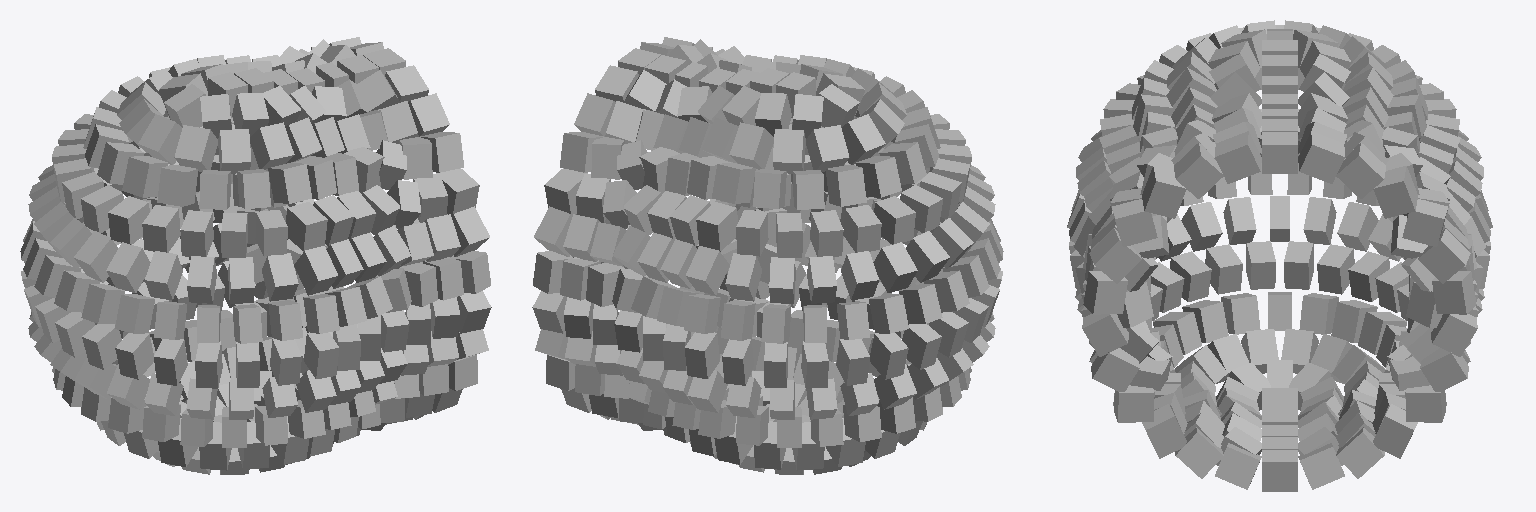
The robot description file, URDF, robot "root":
<?xml version='1.0' encoding='utf-8'?>
<robot name="root">
  <link name="link_001">
    <visual>
      <origin xyz="0 0 0" rpy="0 0 0" />
      <geometry>
        <mesh filename="80d07eabbcb90e7cc95b2900b5b3593e0a63286825cb42a467e81ba6d17bae49_scale_026.stl" scale="1.0000E+00 1.0000E+00 1.0000E+00" />
      </geometry>
      <material name="">
        <color rgba="7.50E-01 7.50E-01 7.50E-01 1" />
      </material>
    </visual>
    <collision>
      <origin xyz="0 0 0" rpy="0 0 0" />
      <geometry>
        <mesh filename="80d07eabbcb90e7cc95b2900b5b3593e0a63286825cb42a467e81ba6d17bae49_scale_026.stl" scale="1.0000E+00 1.0000E+00 1.0000E+00" />
      </geometry>
    </collision>
  </link>
</robot>

--- What the picture shows (computed from the rendered views, not written in the file) ---
The picture shows the robot from 3 angles, left to right: view 1: azimuth 30°, elevation 25°; view 2: azimuth 150°, elevation 25°; view 3: azimuth 270°, elevation 25°; orthographic projection.
Model root with 1 links and 0 joints (none), rooted at link_001, posed all joints at 0.
Visible links, largest first — view 1: link_001; view 2: link_001; view 3: link_001.
Boxes of the visible links, <box> form: link_001: <box>20,37,491,474</box>; link_001: <box>532,37,1003,474</box>; link_001: <box>1067,20,1492,491</box>.
Size in the robot's own frame: 0.098 by 0.1 by 0.0982 metres.
1 mesh visuals loaded from 1 distinct referenced files (1 binary STL).
